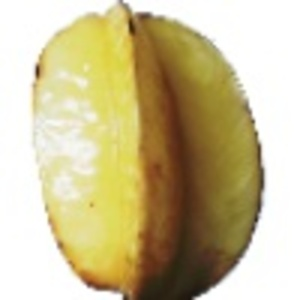carambola: (29, 1, 265, 300)
